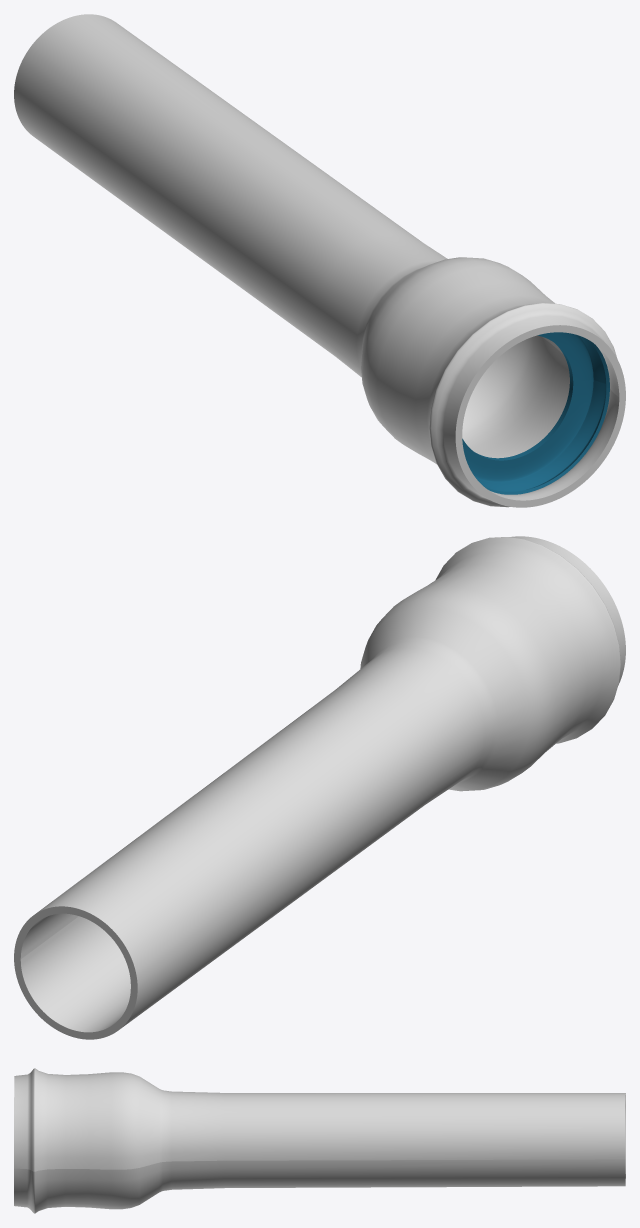
File: riber ancha.fbx
3 views of the same model, one above another, from view 1: azimuth 30°, elevation 25°; view 2: azimuth 150°, elevation 25°; view 3: azimuth 270°, elevation 25° (orthographic). The views are drawn at different scales.
Parts seen in each view (by area): view 1: Objeto_1, Objeto_2; view 2: Objeto_1; view 3: Objeto_1.
Part boxes in pixels (x1,y1,x2,y2): Objeto_1: [14, 14, 625, 507]; Objeto_2: [462, 332, 609, 494]; Objeto_1: [14, 536, 625, 1039]; Objeto_1: [14, 1068, 625, 1213].
Bounding box in the file's own units: 160 × 160 × 673.
